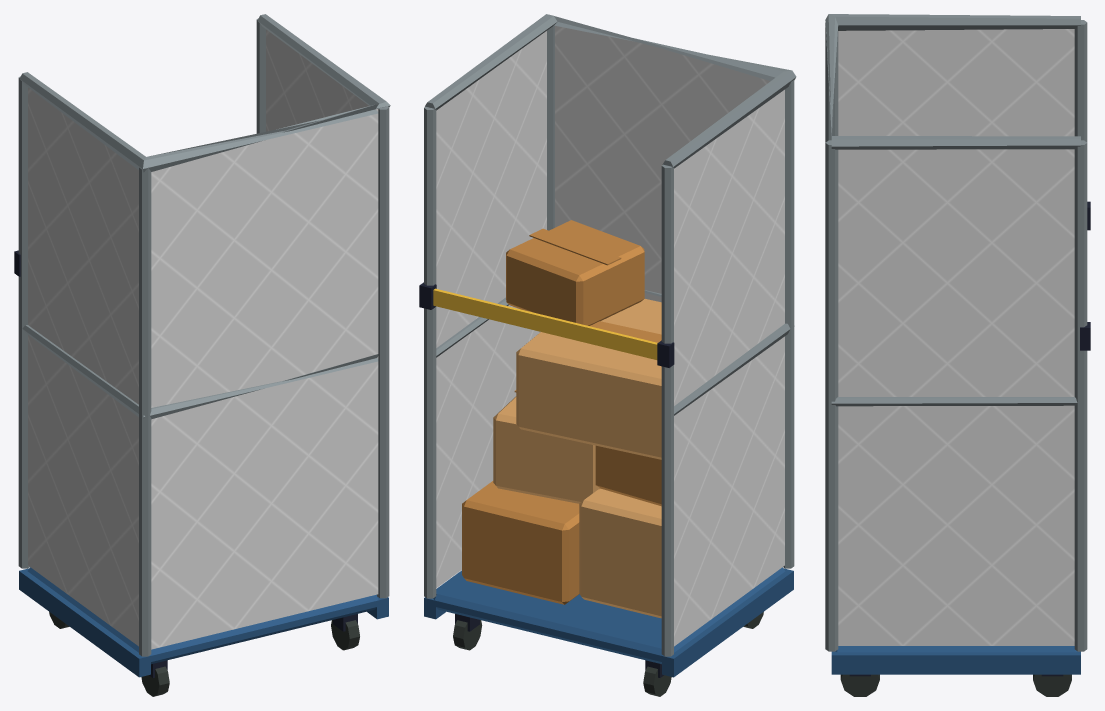
File: sm_env_depot_roll_cage_loaded.glb
3 views of the same model, side by side, from view 1: azimuth 30°, elevation 25°; view 2: azimuth 150°, elevation 25°; view 3: azimuth 270°, elevation 25° (orthographic). The views are drawn at different scales.
Visible parts, largest first — view 1: CageBack, CageSide, TopRail, Post.001, Post.003, CageSide.001, Post, Base, BaseRail, MidRail, Post.002, Caster.003 (+1 smaller); view 2: CageSide, CageSide.001, CageBack, Parcel.004, Parcel.001, Parcel.005, Base, Parcel, Parcel.002, TopRail, Post, Post.002 (+10 smaller); view 3: CageSide.001, CageSide, TopRail, Post.003, Post.002, BaseRail.001, MidRail, Base, Post, Post.001, Caster.003, Caster.002.
Part boxes in pixels (left/top/right/bottom): CageBack: left=151, top=109, right=378, bottom=649; CageSide: left=28, top=87, right=138, bottom=646; TopRail: left=19, top=14, right=390, bottom=172; Post.001: left=139, top=167, right=151, bottom=656; Post.003: left=377, top=106, right=389, bottom=598; CageSide.001: left=266, top=29, right=368, bottom=131; Post: left=18, top=76, right=29, bottom=568; Base: left=27, top=567, right=379, bottom=664; BaseRail: left=19, top=568, right=150, bottom=677; MidRail: left=22, top=325, right=378, bottom=419; Post.002: left=256, top=18, right=265, bottom=133; Caster.003: left=331, top=620, right=359, bottom=650; CageSide: left=674, top=89, right=784, bottom=646; CageSide.001: left=436, top=31, right=546, bottom=588; CageBack: left=555, top=26, right=770, bottom=302; Parcel.004: left=516, top=299, right=661, bottom=459; Parcel.001: left=462, top=481, right=579, bottom=604; Parcel.005: left=506, top=220, right=644, bottom=325; Base: left=433, top=567, right=785, bottom=664; Parcel: left=579, top=488, right=661, bottom=618; Parcel.002: left=493, top=396, right=599, bottom=503; TopRail: left=425, top=14, right=796, bottom=168; Post: left=661, top=164, right=673, bottom=656; Post.002: left=424, top=106, right=436, bottom=598; CageSide.001: left=838, top=149, right=1074, bottom=645; CageSide: left=838, top=29, right=1074, bottom=136; TopRail: left=825, top=14, right=1080, bottom=149; Post.003: left=825, top=140, right=838, bottom=651; Post.002: left=1074, top=140, right=1087, bottom=651; BaseRail.001: left=831, top=651, right=1080, bottom=674; MidRail: left=831, top=397, right=1077, bottom=406; Base: left=835, top=646, right=1077, bottom=652; Post: left=1074, top=20, right=1087, bottom=142; Post.001: left=825, top=22, right=838, bottom=142; Caster.003: left=840, top=674, right=879, bottom=696; Caster.002: left=1033, top=674, right=1071, bottom=696.
Size of the model in its own units: 0.8455 by 1.77 by 0.745.
Materials: 8 (1 with a texture image).
